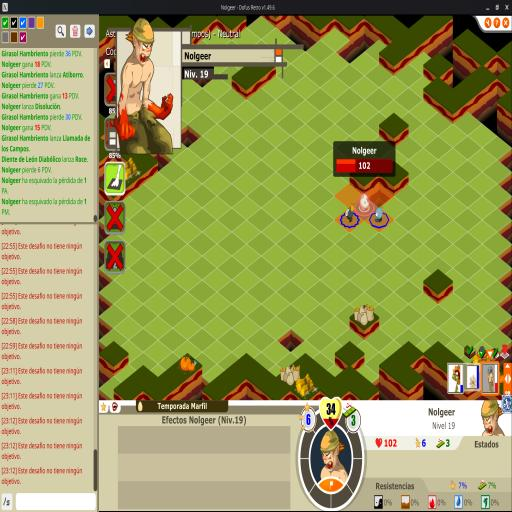Enemigos: (344, 202, 357, 224), (374, 206, 384, 224)
Personaje: (359, 193, 370, 212)
